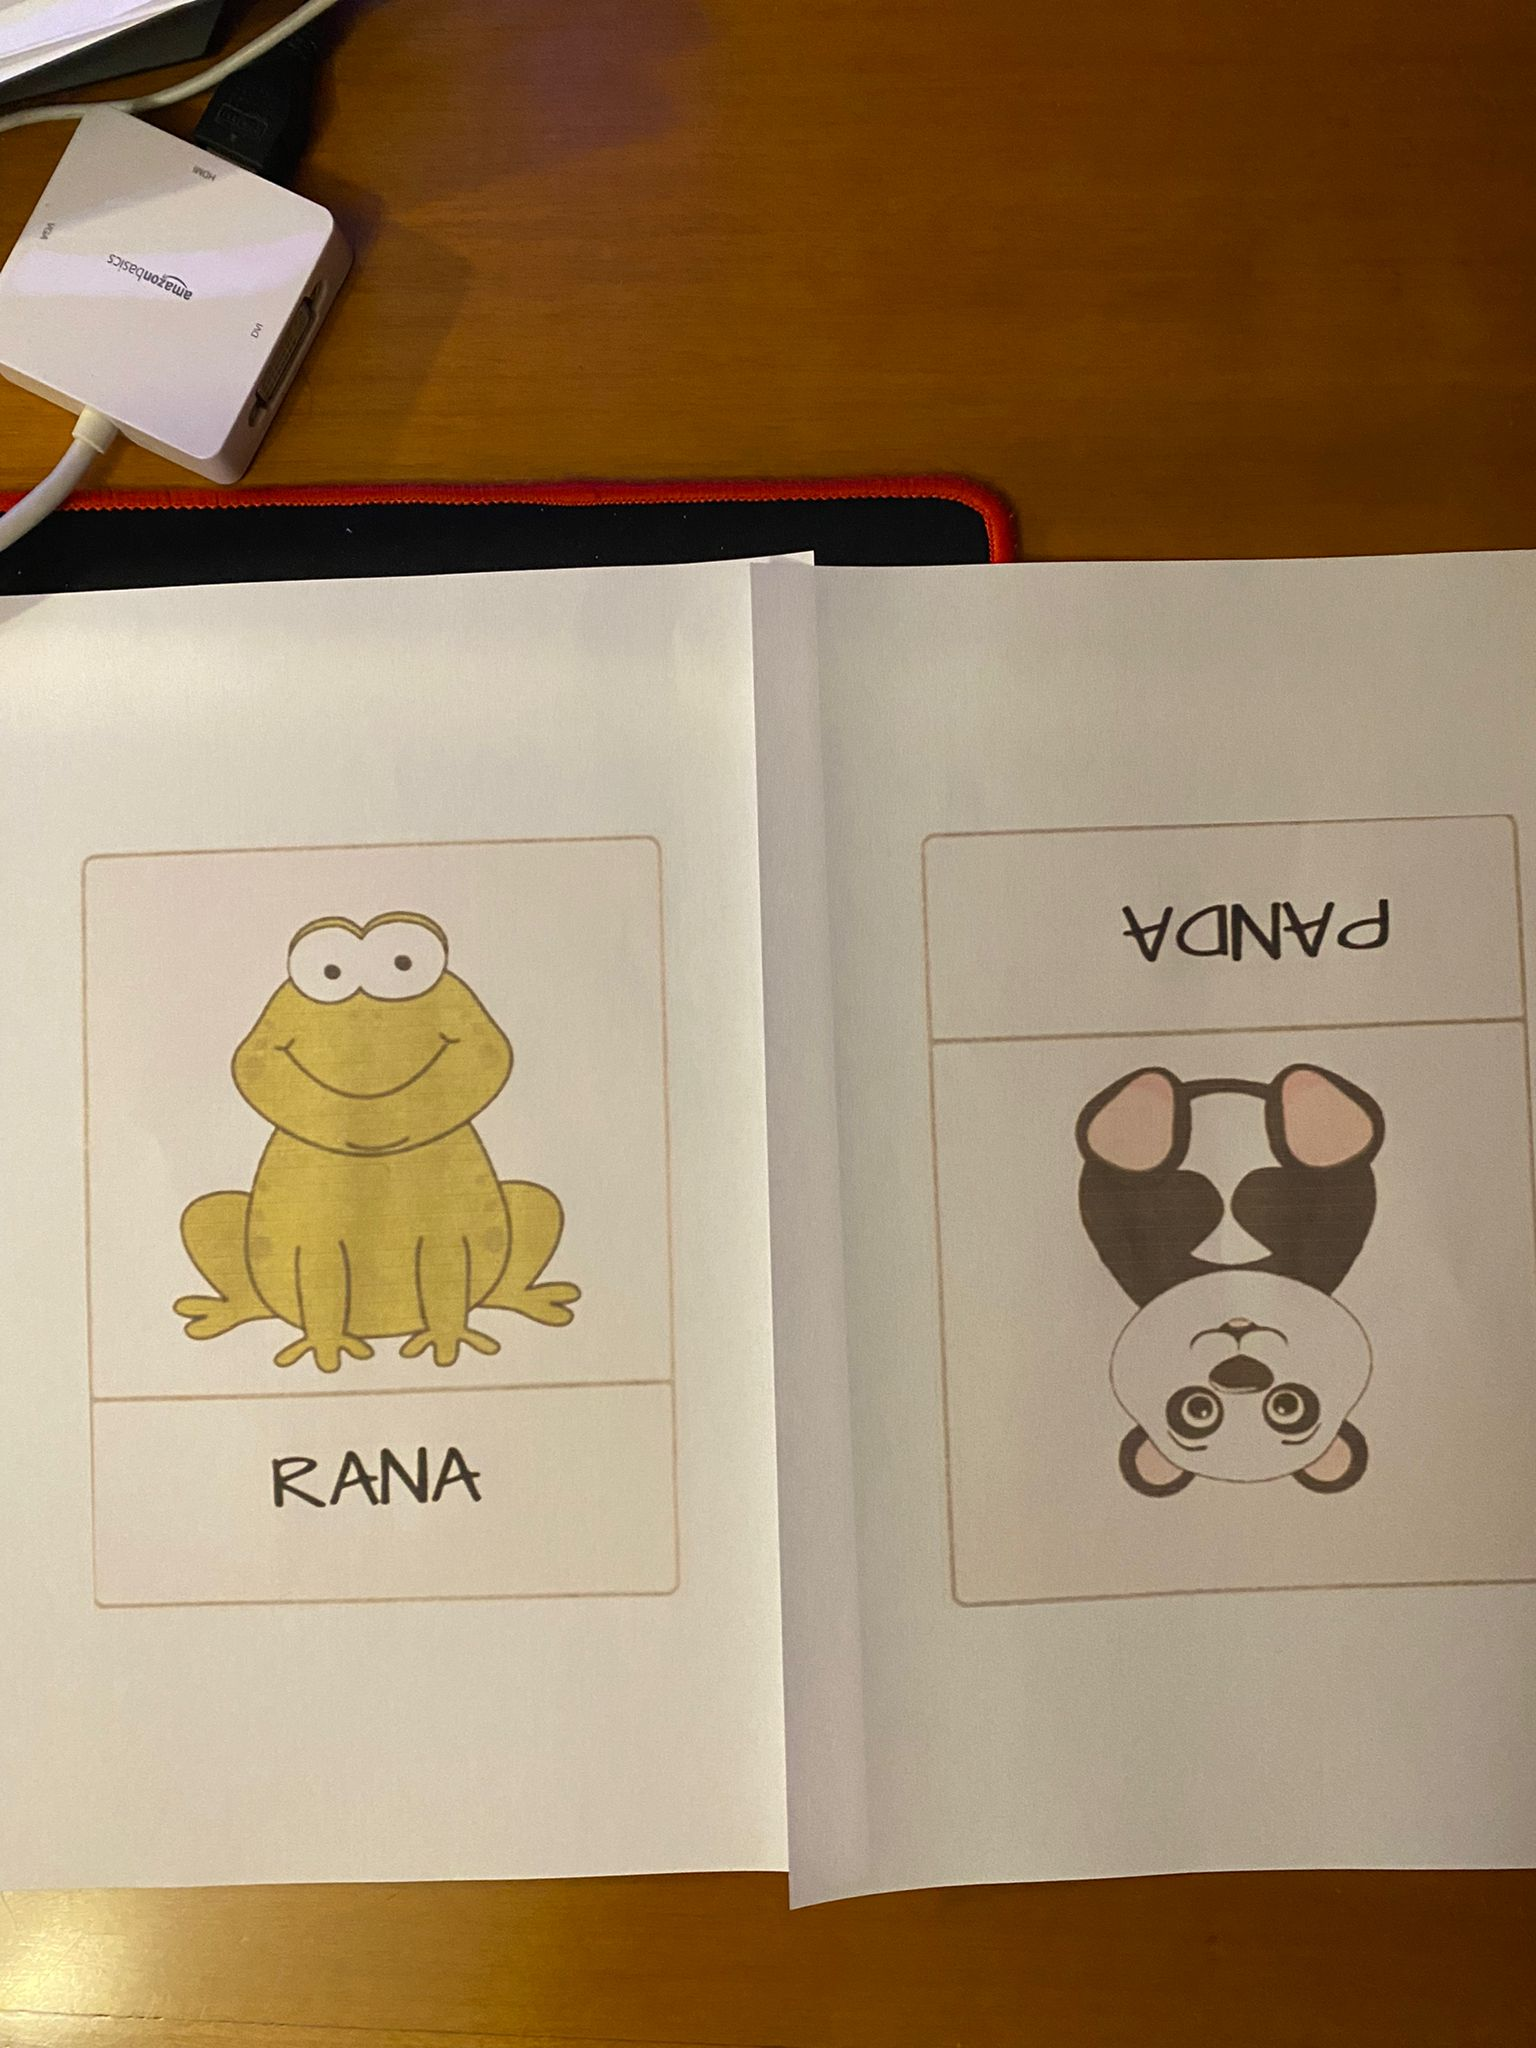panda: (918, 830, 1527, 1587)
rana: (93, 845, 669, 1585)
